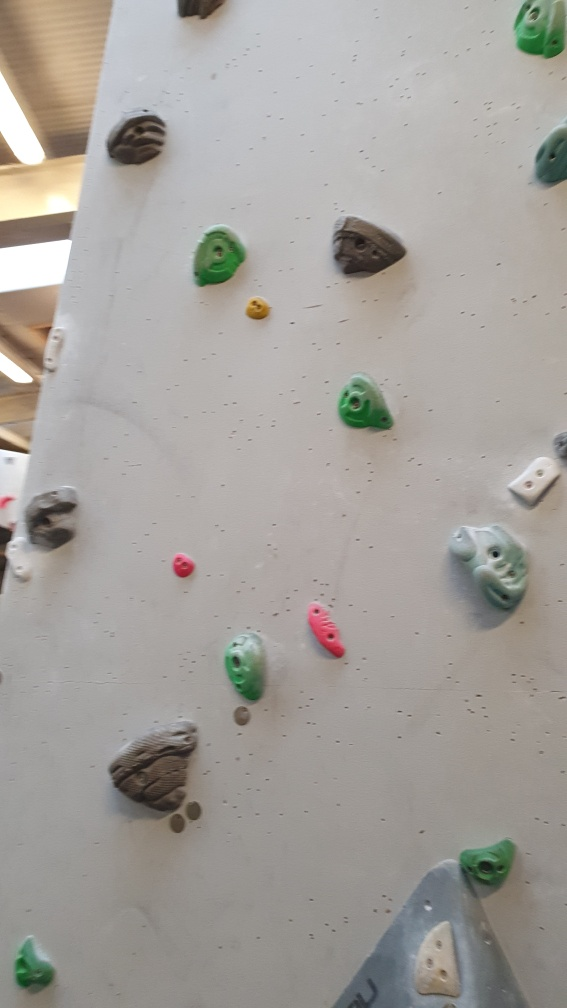Crimp: (507, 451, 559, 501), (307, 597, 346, 660), (2, 531, 31, 586), (47, 326, 65, 372)
Hand Start: (165, 809, 189, 839), (180, 798, 206, 824), (229, 702, 251, 730)
Jug: (448, 517, 535, 619), (109, 715, 196, 816), (333, 214, 408, 280), (25, 485, 83, 559), (335, 372, 401, 435), (191, 226, 252, 291), (103, 106, 171, 164), (224, 626, 266, 700)
